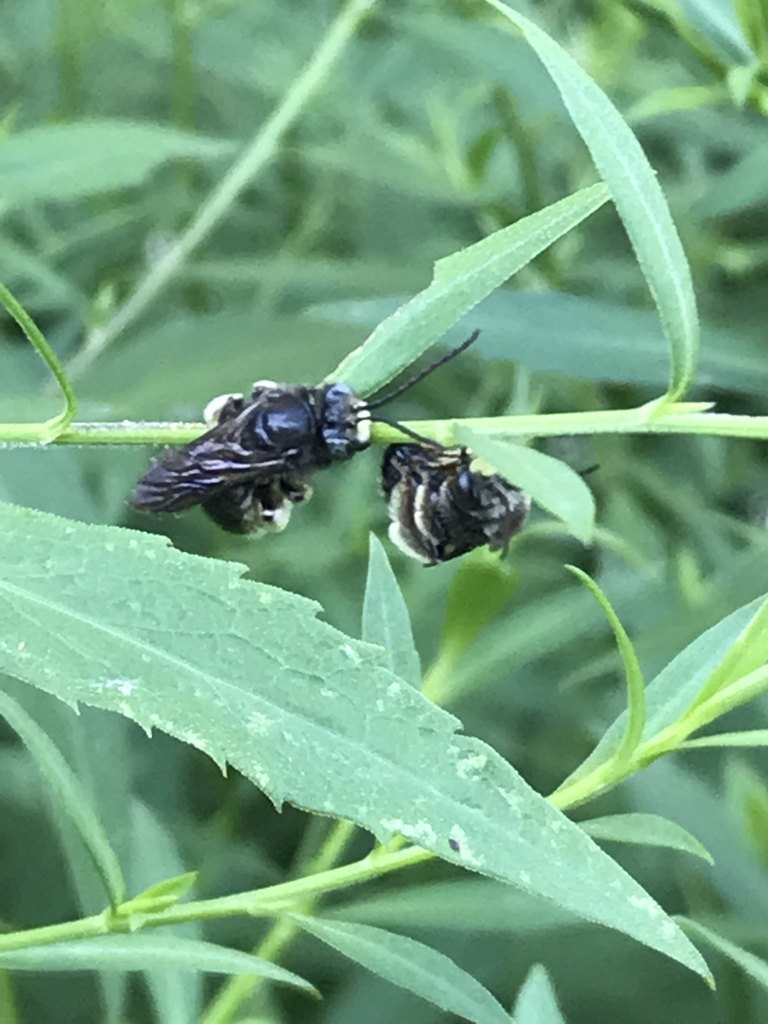not_bumblebee: (124, 326, 483, 542), (378, 438, 534, 569)
